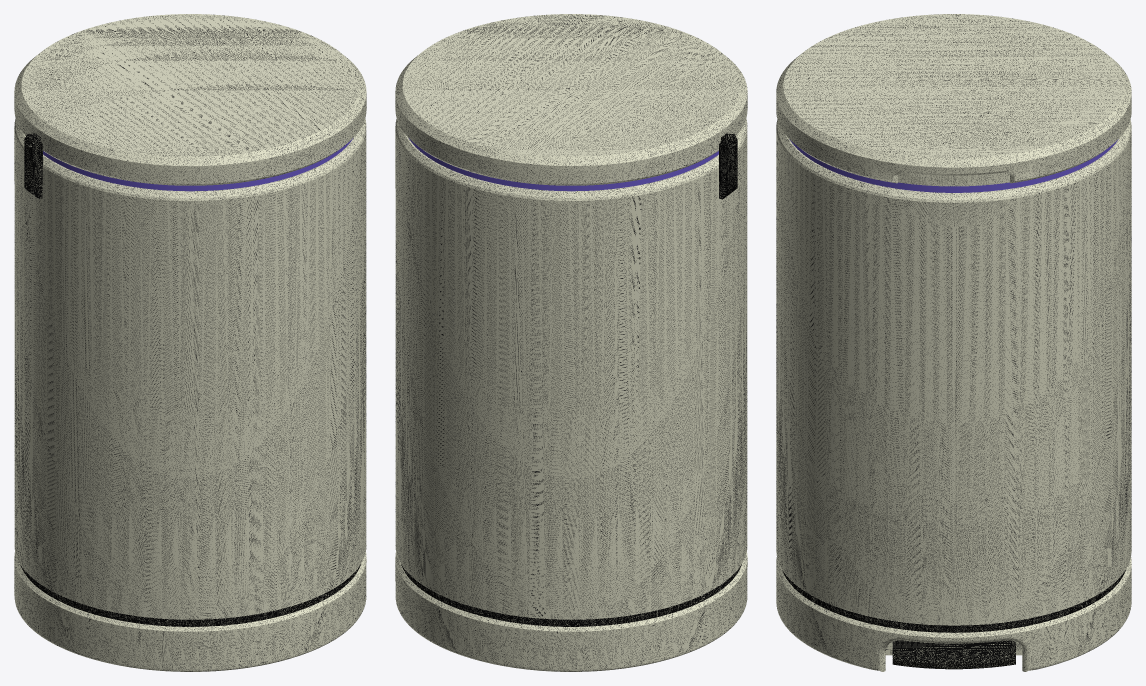
3 views of the same model, side by side, from view 1: azimuth 30°, elevation 25°; view 2: azimuth 150°, elevation 25°; view 3: azimuth 270°, elevation 25° (orthographic).
Parts seen in each view (by area): view 1: mesh28_mesh28-geometry, mesh3_mesh3-geometry, mesh6_mesh6-geometry, mesh27_mesh27-geometry, mesh10_mesh10-geometry, mesh32_mesh32-geometry, mesh4_mesh4-geometry, mesh30_mesh30-geometry, mesh1_mesh1-geometry, mesh25_mesh25-geometry; view 2: mesh28_mesh28-geometry, mesh3_mesh3-geometry, mesh6_mesh6-geometry, mesh27_mesh27-geometry, mesh10_mesh10-geometry, mesh32_mesh32-geometry, mesh4_mesh4-geometry, mesh29_mesh29-geometry, mesh1_mesh1-geometry, mesh25_mesh25-geometry; view 3: mesh28_mesh28-geometry, mesh3_mesh3-geometry, mesh6_mesh6-geometry, mesh5_mesh5-geometry, mesh27_mesh27-geometry, mesh10_mesh10-geometry, mesh32_mesh32-geometry, mesh4_mesh4-geometry, mesh30_mesh30-geometry, mesh29_mesh29-geometry, mesh26_mesh26-geometry.
Part boxes in pixels (bbox=[...]): mesh28_mesh28-geometry: bbox=[14, 127, 366, 619]; mesh3_mesh3-geometry: bbox=[14, 14, 366, 185]; mesh6_mesh6-geometry: bbox=[14, 556, 366, 669]; mesh27_mesh27-geometry: bbox=[15, 120, 365, 198]; mesh10_mesh10-geometry: bbox=[20, 564, 360, 626]; mesh32_mesh32-geometry: bbox=[14, 552, 366, 631]; mesh4_mesh4-geometry: bbox=[43, 138, 353, 191]; mesh30_mesh30-geometry: bbox=[43, 119, 366, 200]; mesh1_mesh1-geometry: bbox=[24, 134, 42, 199]; mesh25_mesh25-geometry: bbox=[14, 572, 366, 671]; mesh28_mesh28-geometry: bbox=[395, 127, 747, 619]; mesh3_mesh3-geometry: bbox=[395, 14, 747, 185]; mesh6_mesh6-geometry: bbox=[395, 558, 747, 669]; mesh27_mesh27-geometry: bbox=[396, 120, 746, 198]; mesh10_mesh10-geometry: bbox=[401, 564, 741, 626]; mesh32_mesh32-geometry: bbox=[395, 552, 747, 631]; mesh4_mesh4-geometry: bbox=[408, 138, 718, 191]; mesh29_mesh29-geometry: bbox=[395, 119, 718, 200]; mesh1_mesh1-geometry: bbox=[719, 134, 737, 199]; mesh25_mesh25-geometry: bbox=[396, 601, 746, 671]; mesh28_mesh28-geometry: bbox=[776, 131, 1131, 625]; mesh3_mesh3-geometry: bbox=[776, 14, 1131, 186]; mesh6_mesh6-geometry: bbox=[776, 566, 1131, 668]; mesh5_mesh5-geometry: bbox=[892, 640, 1015, 669]; mesh27_mesh27-geometry: bbox=[777, 121, 1130, 199]; mesh10_mesh10-geometry: bbox=[782, 570, 1125, 632]; mesh32_mesh32-geometry: bbox=[776, 557, 1131, 637]; mesh4_mesh4-geometry: bbox=[789, 139, 1118, 192]; mesh30_mesh30-geometry: bbox=[776, 119, 953, 202]; mesh29_mesh29-geometry: bbox=[954, 119, 1131, 202]; mesh26_mesh26-geometry: bbox=[785, 134, 1122, 193].
Bounding box in the file's own units: 0.478 × 0.746 × 0.4638.
